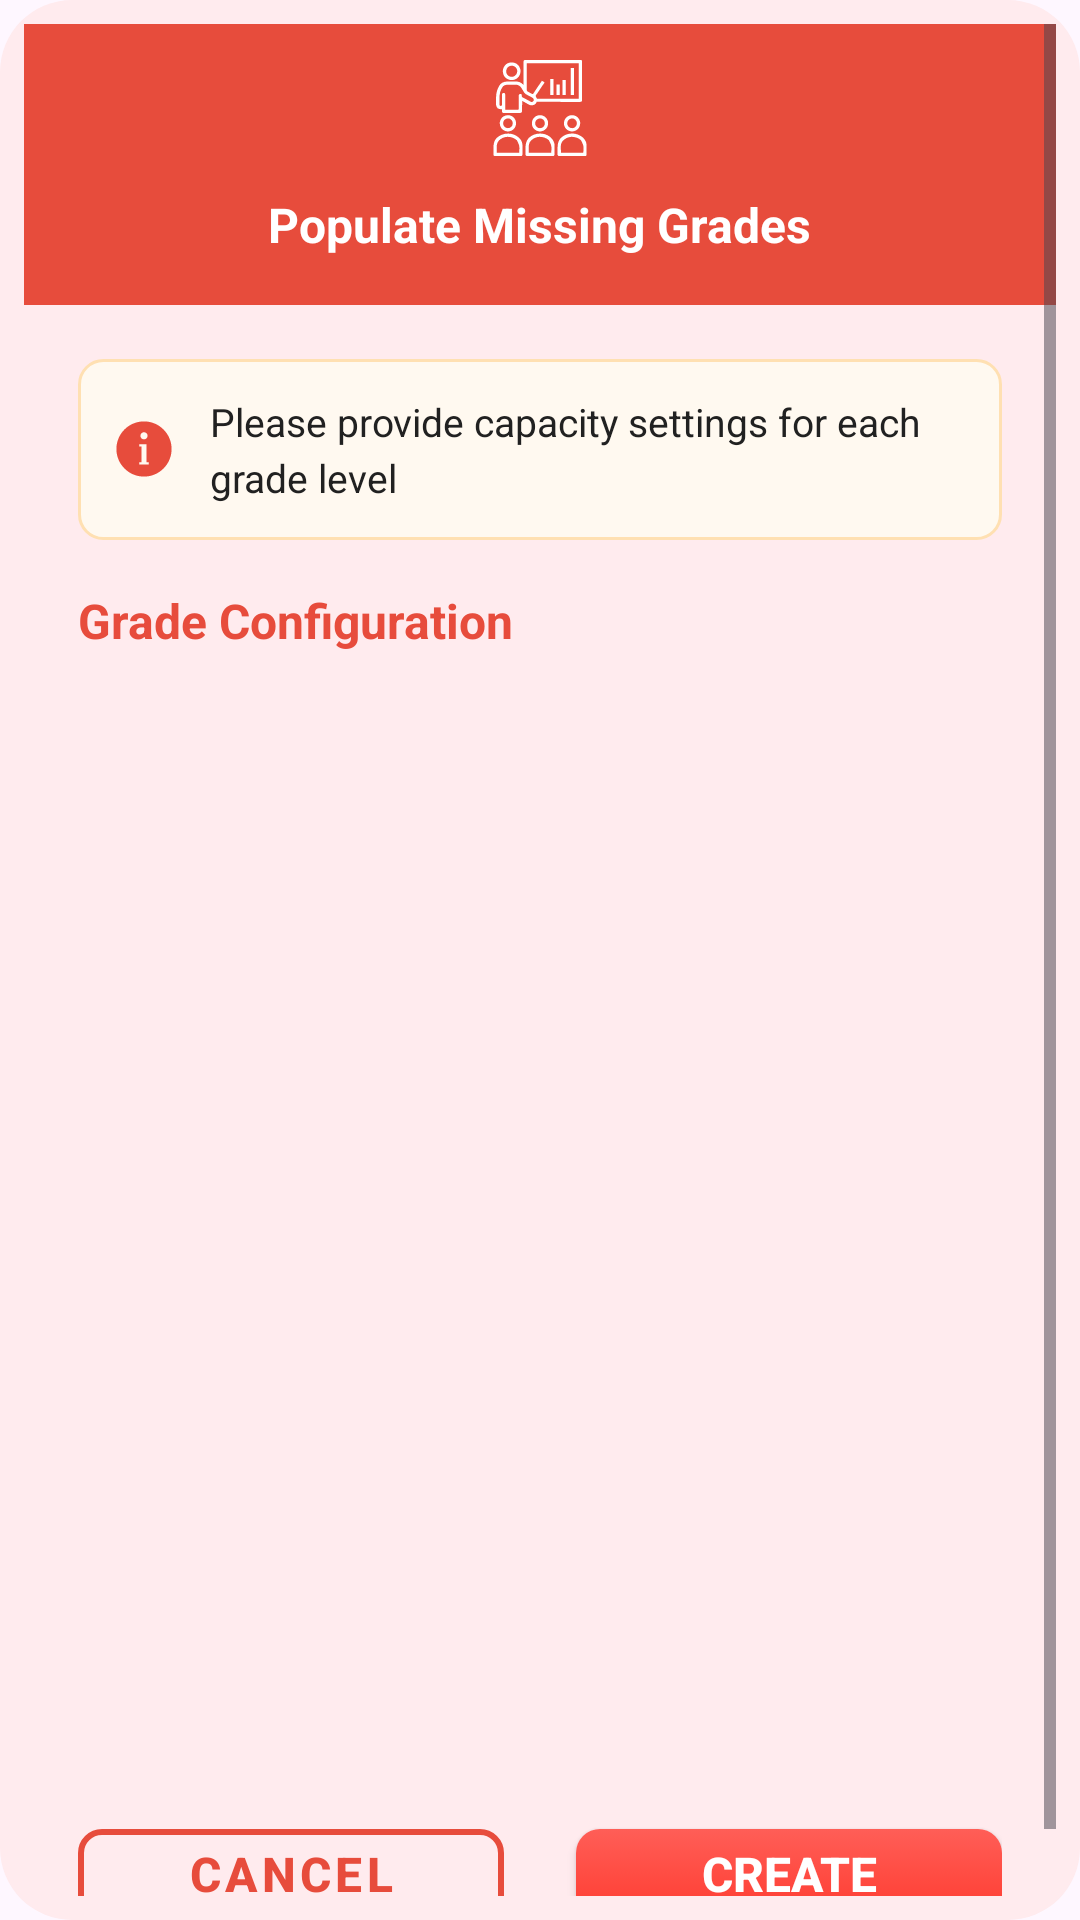

Icon click points for this 1080 x 1920 phone screenshot, format (x=x, y=y):
Info Icon: (x=144, y=449)
